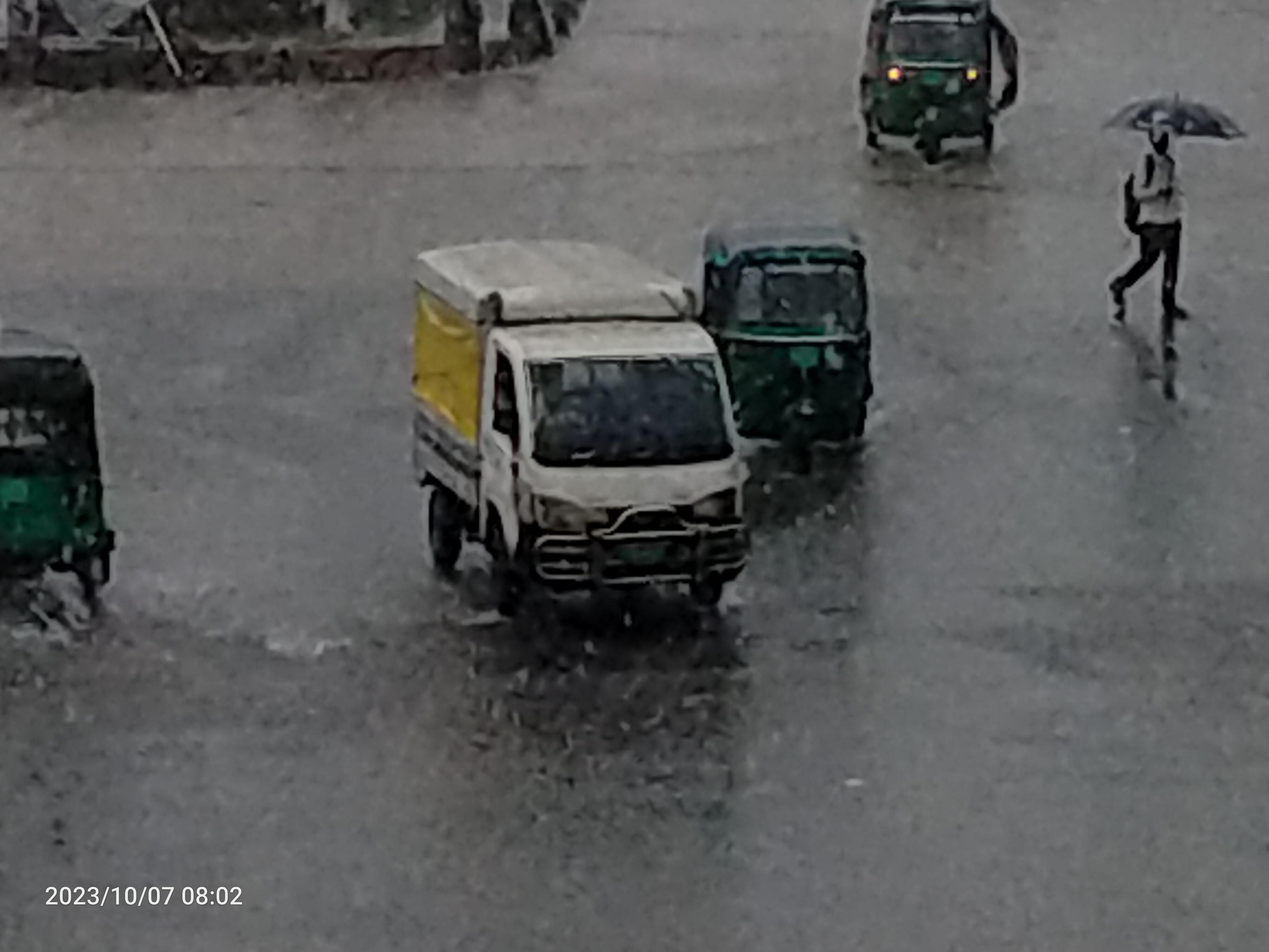Car: (323, 213, 769, 656)
